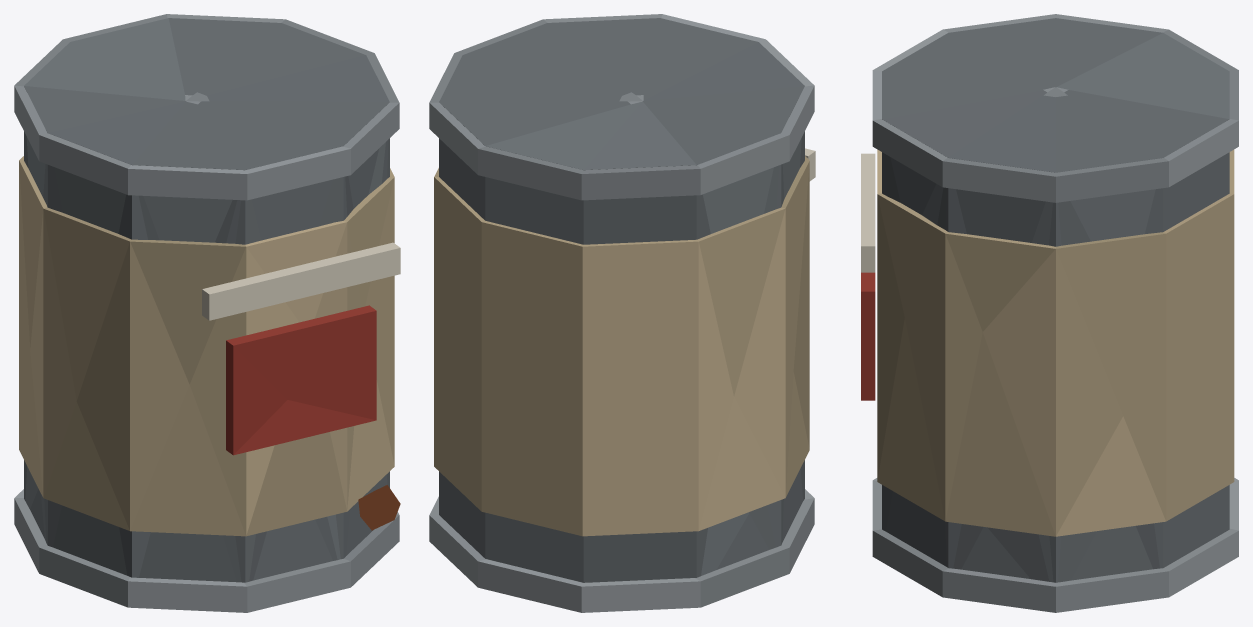
The model's file is food_canned_tushenka_idle.glb.
3 views of the same model, side by side, from view 1: azimuth 30°, elevation 25°; view 2: azimuth 150°, elevation 25°; view 3: azimuth 270°, elevation 25° (orthographic).
Visible parts, largest first — view 1: food_canned_tushenka_idle; view 2: food_canned_tushenka_idle; view 3: food_canned_tushenka_idle.
Part boxes in pixels (<box>): food_canned_tushenka_idle: <box>14,14,400,612</box>; food_canned_tushenka_idle: <box>429,14,815,612</box>; food_canned_tushenka_idle: <box>861,14,1238,612</box>.
Bounding box in the file's own units: 0.08 × 0.1 × 0.082.
1 material, 1 textured.
